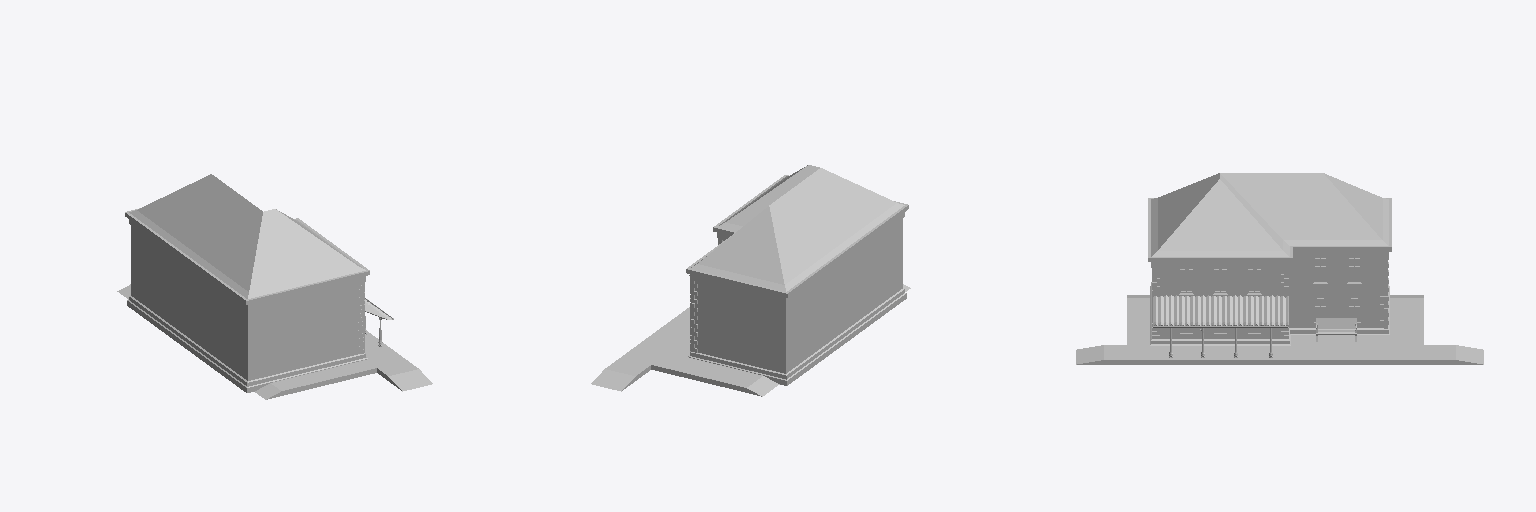
File: SM_TrainStation_01.obj
The picture shows the model from 3 angles: view 1: azimuth 30°, elevation 25°; view 2: azimuth 150°, elevation 25°; view 3: azimuth 270°, elevation 25°; orthographic projection.
Parts seen in each view (by area): view 1: Cube.032_Cube.019; view 2: Cube.032_Cube.019; view 3: Cube.032_Cube.019.
Part boxes in pixels (x1,y1,x2,y2): Cube.032_Cube.019: (117,174,432,399); Cube.032_Cube.019: (591,165,910,396); Cube.032_Cube.019: (1076,173,1483,364).
Bounding box in the file's own units: 9.81 × 8.95 × 23.